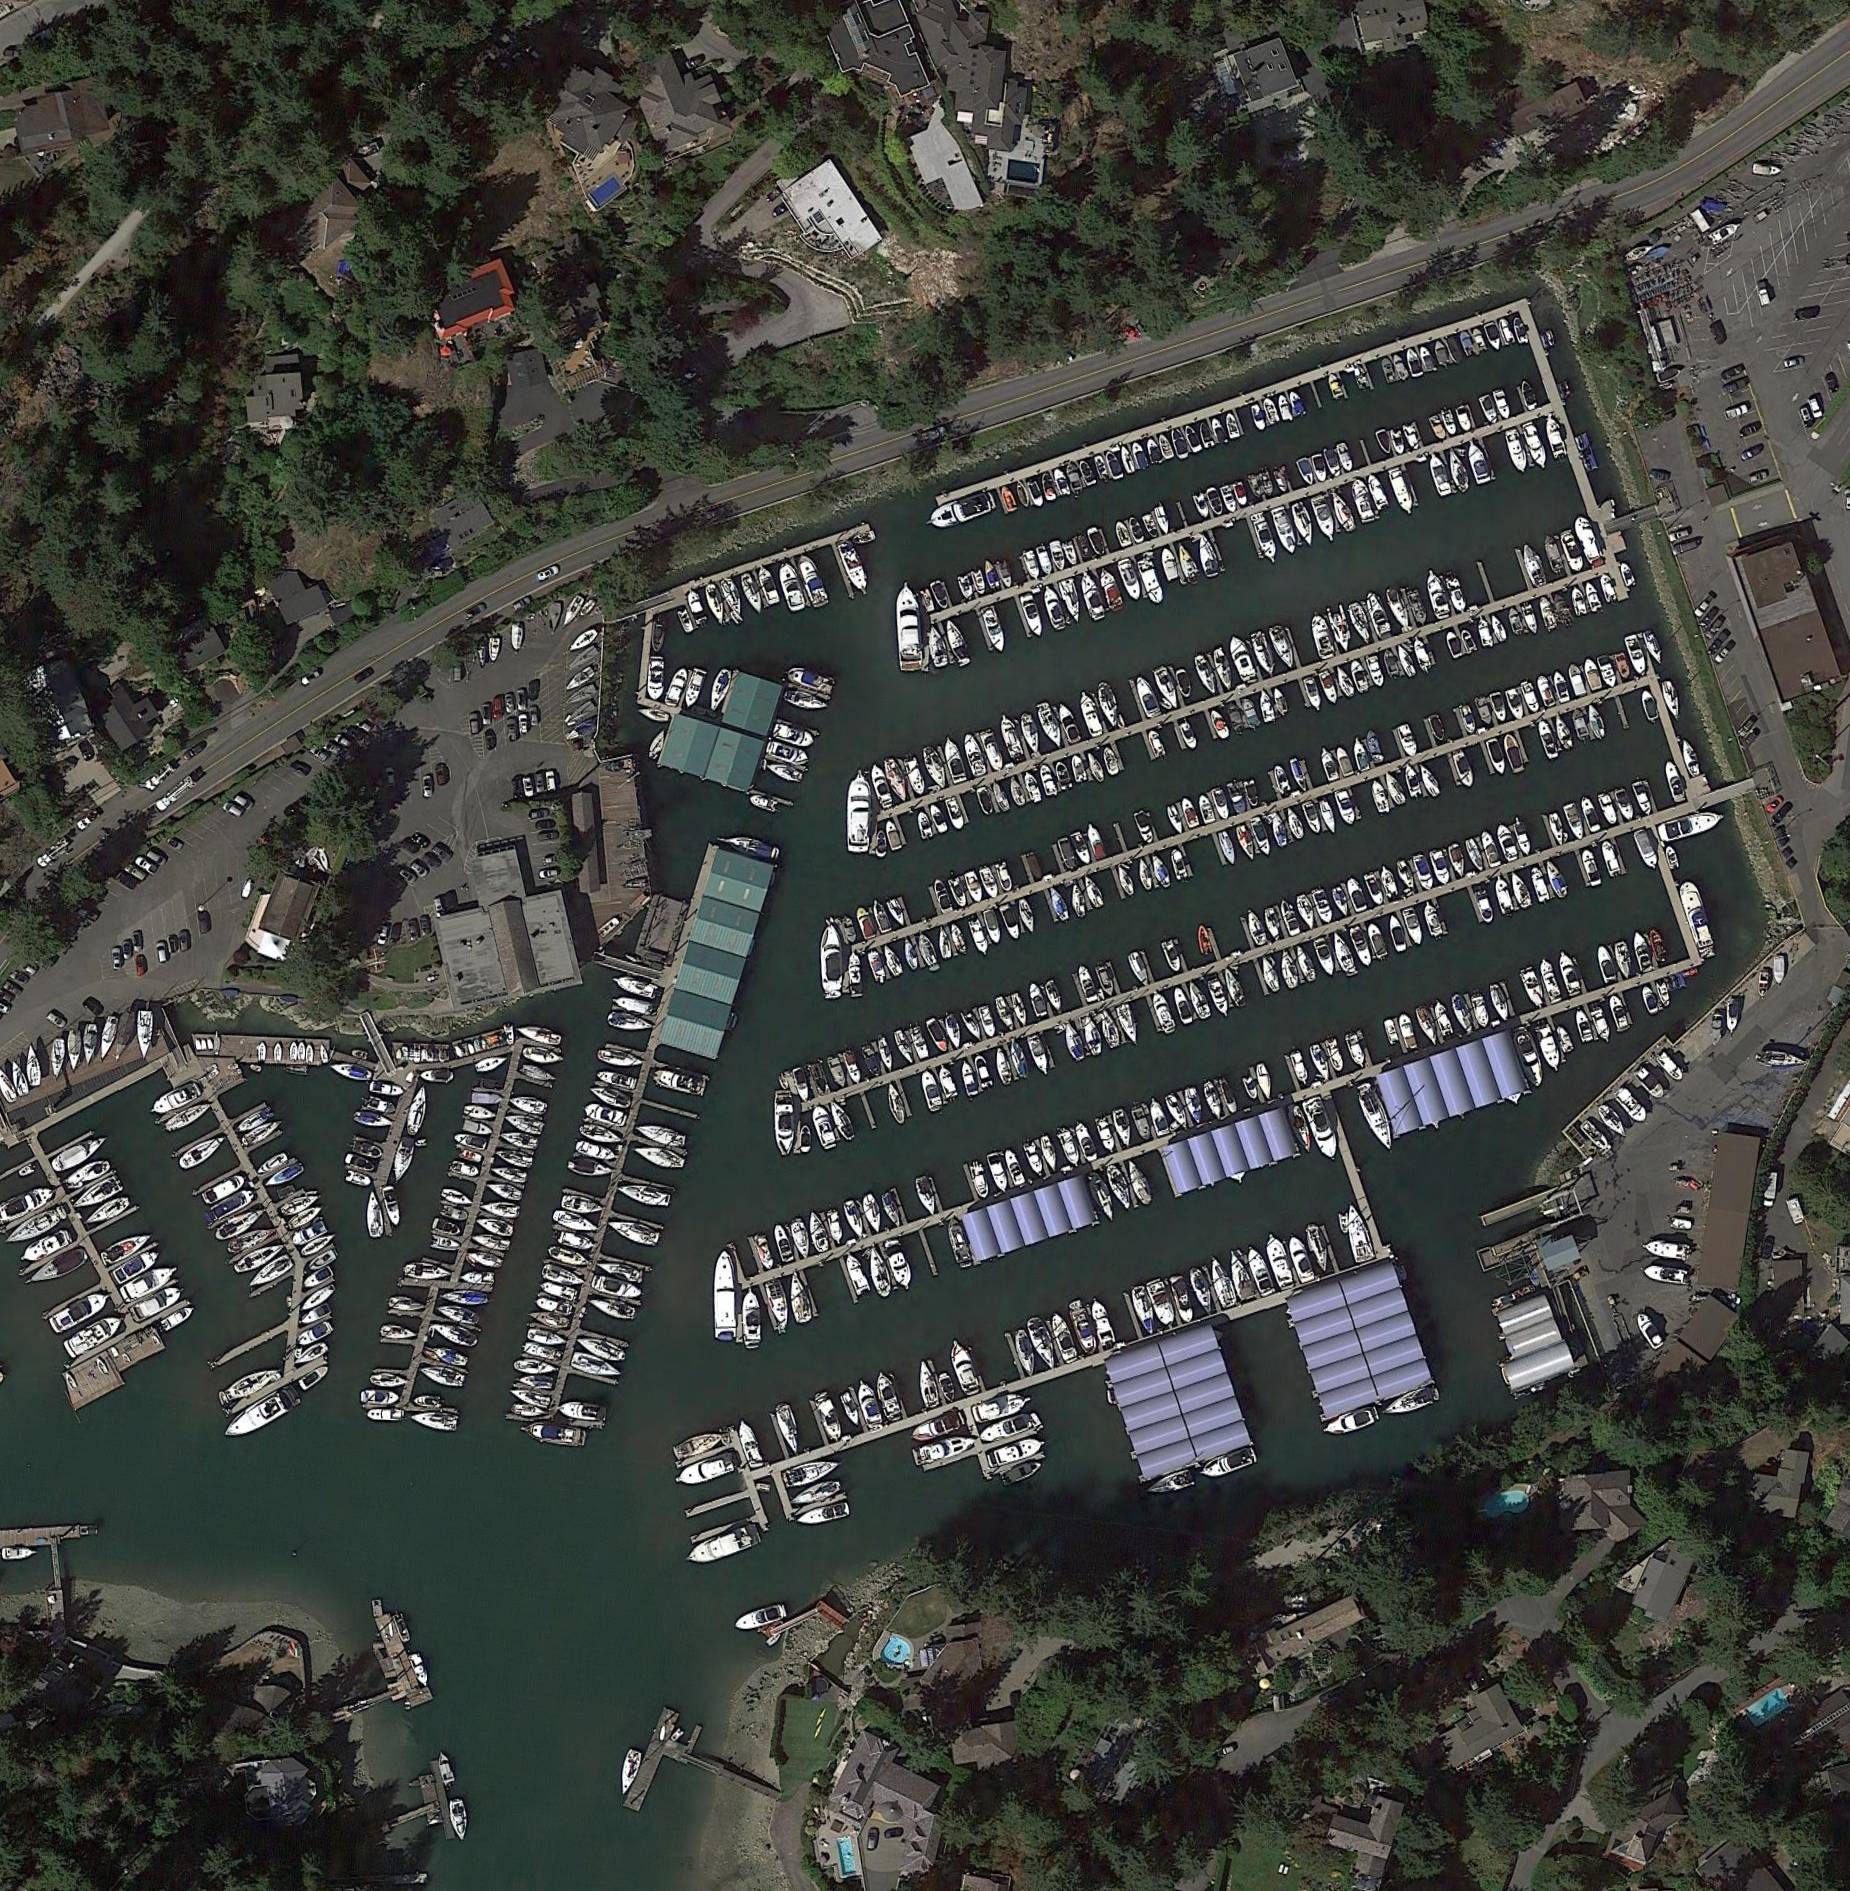harbor: (705, 922, 1711, 1347), (764, 769, 1709, 1159), (818, 647, 1660, 996), (839, 520, 1621, 859), (737, 1212, 1398, 1527), (923, 380, 1569, 664), (935, 302, 1530, 539), (85, 1049, 391, 1417), (495, 1040, 712, 1447), (363, 1059, 554, 1440), (2, 1166, 191, 1369), (673, 520, 889, 652), (623, 1706, 771, 1854), (303, 1591, 434, 1737), (329, 1078, 432, 1239), (659, 1423, 773, 1555), (2, 1527, 102, 1645), (373, 1761, 457, 1854)
large vehicle: (154, 776, 197, 813), (36, 835, 71, 869), (142, 761, 178, 793), (1762, 1171, 1779, 1206)
ship: (220, 1383, 303, 1444), (683, 1523, 762, 1571), (2, 1201, 71, 1250), (46, 1288, 114, 1337), (923, 490, 998, 534), (63, 1310, 127, 1361), (1677, 879, 1718, 959), (117, 1257, 181, 1305), (1355, 1084, 1398, 1156), (27, 1245, 91, 1291), (1301, 1095, 1342, 1164), (893, 581, 923, 671), (49, 1128, 108, 1174), (673, 1450, 739, 1491), (1657, 807, 1726, 844), (224, 1362, 285, 1405), (910, 1430, 978, 1467), (97, 1227, 158, 1267), (129, 1283, 186, 1325), (945, 1335, 983, 1400), (1338, 1201, 1376, 1266), (2, 1179, 56, 1223), (230, 1237, 286, 1279), (835, 539, 876, 596), (212, 1203, 269, 1244), (17, 1227, 75, 1267), (971, 1388, 1033, 1425), (845, 768, 872, 852), (202, 1186, 258, 1227), (1511, 1029, 1548, 1090), (1198, 1445, 1259, 1483), (108, 1247, 163, 1288), (906, 1410, 967, 1445), (1381, 1384, 1442, 1420), (1320, 1405, 1381, 1440), (795, 551, 832, 608), (147, 1079, 202, 1118), (80, 1193, 134, 1232), (781, 1454, 840, 1489), (986, 1433, 1045, 1469), (176, 1134, 232, 1171), (717, 830, 781, 862), (71, 1174, 124, 1213), (713, 1250, 735, 1342), (1262, 1235, 1298, 1291), (246, 1252, 296, 1291), (605, 1215, 662, 1249), (522, 1420, 590, 1449), (1025, 1313, 1059, 1371), (224, 1222, 278, 1257), (574, 1332, 630, 1366), (63, 1156, 114, 1193), (978, 1411, 1033, 1445), (1067, 1303, 1101, 1359), (630, 1140, 688, 1173), (569, 1350, 627, 1383), (774, 559, 808, 613), (883, 1237, 917, 1291), (1145, 1278, 1179, 1332), (1084, 1169, 1118, 1223), (200, 1173, 251, 1208), (773, 1401, 805, 1457), (788, 1478, 844, 1510), (734, 1418, 767, 1471), (671, 1428, 723, 1462), (1243, 1245, 1277, 1298), (1249, 512, 1281, 566), (1284, 1101, 1316, 1156), (942, 617, 976, 668), (1033, 701, 1067, 752), (632, 1120, 688, 1151), (732, 1603, 788, 1633), (864, 1245, 895, 1301), (854, 1378, 884, 1433), (1076, 571, 1108, 624), (944, 1217, 976, 1269), (1206, 1257, 1238, 1310), (818, 925, 844, 991), (163, 1100, 212, 1134), (1225, 634, 1259, 683), (795, 1500, 852, 1528), (1049, 1311, 1079, 1366), (1267, 624, 1299, 674), (813, 1393, 845, 1444), (1103, 1162, 1135, 1213), (617, 1179, 673, 1208), (651, 1067, 706, 1096), (239, 1117, 286, 1151), (586, 1291, 639, 1322), (784, 664, 837, 695), (1130, 1284, 1160, 1337), (879, 756, 911, 805), (1362, 590, 1394, 639), (1328, 930, 1360, 979), (1123, 1157, 1155, 1206), (1145, 1467, 1194, 1500), (403, 1084, 432, 1139), (549, 1205, 600, 1235), (613, 1747, 644, 1798), (979, 603, 1010, 654), (432, 1318, 483, 1349), (1421, 569, 1452, 620), (1271, 505, 1301, 556), (1249, 629, 1279, 679), (1186, 1266, 1216, 1317), (1286, 1234, 1316, 1284), (918, 744, 950, 791), (1152, 664, 1184, 712), (1613, 1088, 1652, 1127), (608, 971, 661, 1000), (998, 712, 1027, 764), (1169, 1273, 1198, 1325), (1303, 1222, 1332, 1274), (940, 735, 971, 785), (388, 1135, 418, 1184), (1521, 420, 1552, 469), (1572, 513, 1603, 563), (1137, 557, 1167, 607), (1096, 564, 1127, 613), (1227, 1252, 1257, 1301), (1327, 490, 1359, 535), (110, 1010, 137, 1064), (764, 1278, 793, 1328), (1384, 585, 1413, 635), (1094, 679, 1123, 730), (874, 1372, 903, 1423), (959, 730, 989, 778), (1039, 585, 1069, 632), (1191, 652, 1221, 700), (827, 1100, 859, 1144), (867, 762, 896, 812), (418, 1361, 468, 1389), (1387, 466, 1416, 515), (1535, 1023, 1564, 1073), (1076, 691, 1105, 740), (1088, 1298, 1116, 1347), (1132, 674, 1162, 720), (998, 1457, 1044, 1488), (591, 1274, 645, 1300), (1555, 947, 1582, 998), (810, 1105, 839, 1152), (771, 722, 818, 751), (1520, 542, 1548, 590), (1503, 427, 1532, 474), (740, 1288, 762, 1349), (263, 1161, 307, 1191), (842, 1252, 872, 1296), (1220, 966, 1250, 1010), (1149, 991, 1179, 1035), (788, 1273, 813, 1325), (596, 1257, 645, 1284), (1011, 1328, 1039, 1378), (915, 1361, 942, 1410), (1631, 1066, 1669, 1101), (1596, 1101, 1630, 1140), (583, 1100, 629, 1128), (588, 1083, 634, 1112), (766, 739, 811, 768), (979, 727, 1008, 773), (1347, 602, 1376, 647), (1349, 480, 1377, 525), (1347, 923, 1376, 969), (1559, 529, 1587, 574), (1116, 557, 1145, 603), (1289, 502, 1318, 547), (1310, 615, 1338, 661), (234, 1106, 274, 1139), (430, 1340, 473, 1371), (1328, 603, 1354, 654), (1162, 1091, 1193, 1134), (1184, 979, 1215, 1022), (1445, 447, 1472, 495), (662, 664, 691, 708), (739, 571, 767, 615), (278, 1191, 322, 1220), (1520, 968, 1548, 1012), (1448, 991, 1477, 1035), (774, 1090, 793, 1157), (605, 1010, 654, 1035), (515, 1022, 564, 1047), (578, 1122, 623, 1149), (540, 1261, 586, 1288), (706, 668, 734, 713), (805, 1212, 832, 1257), (901, 754, 928, 800), (1020, 591, 1047, 637), (298, 1283, 339, 1313), (298, 1228, 339, 1259), (1426, 452, 1454, 498), (1538, 961, 1565, 1006), (1631, 829, 1662, 869), (1623, 634, 1650, 679), (1055, 701, 1083, 747), (1311, 935, 1340, 978), (1448, 749, 1477, 791), (911, 1174, 940, 1217), (1211, 646, 1237, 693), (503, 1110, 547, 1137), (1006, 1039, 1033, 1083), (1465, 442, 1493, 486), (1660, 759, 1687, 803), (1176, 541, 1203, 585), (1110, 1106, 1137, 1151), (159, 1303, 198, 1334), (296, 1318, 335, 1349), (1635, 1311, 1665, 1350), (1123, 951, 1154, 990), (285, 1203, 325, 1232), (1059, 1022, 1088, 1062), (95, 1013, 119, 1062), (1642, 1237, 1691, 1261), (546, 1244, 591, 1269), (574, 1137, 620, 1162), (329, 1059, 374, 1084), (437, 1301, 483, 1327), (1059, 578, 1084, 624), (1016, 710, 1044, 752), (1653, 1051, 1687, 1084), (1543, 859, 1570, 901), (1508, 869, 1535, 912), (1677, 737, 1704, 779), (1072, 1122, 1099, 1164), (1415, 1005, 1442, 1047), (1083, 820, 1110, 862), (595, 1045, 642, 1069), (608, 993, 656, 1017), (412, 1408, 459, 1432), (1364, 473, 1393, 512), (683, 668, 708, 712), (884, 1081, 910, 1125), (1543, 415, 1569, 459), (1311, 495, 1337, 539), (1116, 1001, 1142, 1045), (1501, 734, 1528, 774), (1574, 432, 1601, 473), (1057, 1128, 1084, 1169), (1277, 898, 1304, 939), (1579, 1118, 1611, 1152), (925, 624, 949, 669), (298, 1362, 334, 1393), (1630, 929, 1653, 974), (566, 1156, 615, 1178), (762, 759, 805, 785), (756, 564, 781, 607), (842, 1200, 867, 1242), (1027, 1032, 1052, 1074), (920, 1069, 945, 1112), (510, 1384, 552, 1410), (474, 1213, 517, 1239), (1406, 586, 1432, 629), (1201, 1079, 1227, 1122), (562, 717, 600, 746), (291, 1220, 329, 1249), (889, 1027, 917, 1066), (878, 1191, 905, 1230), (1367, 778, 1394, 817), (1598, 839, 1625, 878), (1079, 873, 1106, 912), (522, 1044, 566, 1067), (705, 581, 728, 625), (789, 1217, 813, 1261), (783, 690, 830, 712), (527, 1306, 571, 1330), (447, 1798, 471, 1842), (1093, 1113, 1116, 1157), (495, 1145, 535, 1171), (500, 1127, 540, 1152), (557, 1401, 608, 1422), (752, 1232, 778, 1273), (562, 664, 596, 695), (7, 1059, 32, 1100), (485, 1178, 525, 1203), (1445, 574, 1471, 615), (1494, 823, 1520, 864), (1577, 795, 1603, 835), (1594, 944, 1620, 984), (1001, 1147, 1027, 1188), (1308, 1042, 1333, 1083), (1277, 949, 1303, 990), (1074, 964, 1099, 1005), (1081, 1017, 1106, 1057), (562, 700, 598, 729), (562, 681, 598, 710), (557, 595, 586, 630), (1315, 746, 1342, 783), (1416, 762, 1443, 800), (1381, 771, 1408, 808), (1206, 976, 1233, 1013), (861, 1189, 883, 1235), (1643, 1262, 1689, 1284), (1198, 534, 1220, 579), (561, 1193, 603, 1217), (508, 1093, 551, 1117), (517, 1061, 559, 1084), (523, 1339, 566, 1362), (381, 1186, 405, 1228), (1537, 718, 1560, 761), (1659, 679, 1682, 722), (1147, 1096, 1171, 1139), (1171, 984, 1194, 1027), (771, 1223, 796, 1262), (720, 578, 745, 617), (966, 917, 991, 956), (930, 878, 955, 917), (1411, 852, 1437, 891), (1333, 788, 1359, 827), (1562, 801, 1587, 840), (1589, 1006, 1615, 1045), (1132, 808, 1157, 847), (1149, 852, 1174, 891), (1096, 1012, 1122, 1051), (1249, 817, 1274, 856), (566, 644, 600, 673), (988, 1151, 1010, 1195), (490, 1162, 530, 1186), (539, 1278, 579, 1301), (254, 1151, 290, 1178), (527, 1325, 568, 1349), (295, 1340, 330, 1367), (364, 1191, 385, 1239), (1403, 907, 1426, 947), (1394, 722, 1421, 757), (1493, 876, 1516, 917), (1183, 1086, 1206, 1127), (1259, 954, 1282, 995), (998, 903, 1023, 940), (925, 1017, 950, 1054), (1394, 642, 1420, 679), (1347, 657, 1372, 695), (1343, 878, 1369, 915), (1157, 546, 1183, 583), (1069, 830, 1094, 868), (1233, 823, 1259, 861), (1243, 908, 1269, 945), (596, 1067, 639, 1090), (993, 1045, 1015, 1088), (1386, 912, 1408, 954), (568, 627, 600, 656), (556, 1228, 595, 1252), (993, 995, 1016, 1034), (1542, 534, 1565, 573), (1428, 847, 1452, 886), (1311, 886, 1335, 925), (1479, 830, 1503, 869), (1486, 737, 1509, 776), (1487, 983, 1511, 1022), (1608, 995, 1631, 1034), (1631, 779, 1655, 818), (1023, 1140, 1047, 1179), (1216, 1076, 1240, 1115), (1343, 1030, 1367, 1069), (1294, 891, 1318, 930), (1293, 944, 1316, 983), (1708, 219, 1742, 246), (440, 1288, 490, 1306), (684, 590, 710, 625), (915, 932, 940, 968), (961, 1008, 986, 1044), (852, 905, 878, 940), (298, 1301, 334, 1327), (1332, 664, 1357, 700), (1047, 886, 1072, 922), (1225, 779, 1250, 815), (1254, 1062, 1276, 1103), (957, 1061, 981, 1098), (403, 1261, 451, 1279), (1365, 923, 1389, 961), (1613, 786, 1637, 823), (1579, 849, 1603, 886), (1642, 629, 1665, 666), (1596, 652, 1620, 690), (1432, 1000, 1455, 1037), (1288, 757, 1311, 795), (1215, 829, 1238, 866), (879, 944, 905, 978), (137, 1010, 154, 1061), (352, 1108, 395, 1128), (307, 1247, 341, 1273), (302, 1266, 335, 1291), (1757, 1051, 1808, 1067), (473, 1230, 512, 1252), (466, 1247, 505, 1269), (535, 1295, 574, 1317), (1421, 900, 1443, 939), (971, 1161, 993, 1200), (1132, 1105, 1154, 1144), (861, 1044, 884, 1079), (978, 864, 1001, 900), (935, 1064, 959, 1100), (1552, 715, 1576, 751), (1364, 873, 1387, 908), (1316, 800, 1340, 835), (1301, 800, 1325, 835), (1528, 868, 1552, 903), (408, 1650, 432, 1686), (1469, 993, 1493, 1029), (1260, 907, 1284, 942), (1160, 937, 1184, 973), (1282, 805, 1306, 840), (1615, 940, 1635, 981), (647, 725, 669, 762), (647, 657, 666, 701), (827, 1054, 849, 1091), (1016, 896, 1039, 934), (983, 908, 1005, 945), (871, 898, 893, 935), (24, 1044, 42, 1088), (1464, 837, 1486, 874), (1447, 842, 1469, 879), (1377, 864, 1399, 901), (1511, 820, 1533, 857), (1364, 727, 1386, 764), (1350, 735, 1372, 773), (1598, 790, 1620, 827), (1586, 703, 1608, 740), (1057, 835, 1079, 873), (1094, 962, 1116, 1000), (945, 876, 971, 908), (1206, 708, 1232, 740), (944, 796, 967, 830), (1535, 674, 1559, 708), (1537, 596, 1560, 630), (1333, 746, 1357, 779), (1647, 929, 1670, 962), (1084, 751, 1108, 785), (839, 1393, 862, 1427), (791, 1066, 811, 1105), (1039, 1134, 1059, 1173), (842, 1049, 864, 1084), (962, 869, 984, 905), (949, 922, 971, 957), (910, 1025, 932, 1061), (1027, 983, 1049, 1018), (972, 1054, 994, 1090), (1006, 774, 1028, 810), (883, 817, 905, 852), (474, 1052, 510, 1074), (454, 1130, 490, 1152), (1365, 654, 1387, 690), (1520, 679, 1542, 715), (1504, 686, 1526, 722), (1330, 884, 1352, 920), (435, 1750, 457, 1786), (1582, 656, 1604, 691), (1325, 1037, 1347, 1073), (1211, 786, 1233, 822), (884, 896, 908, 929), (989, 779, 1013, 812), (1238, 696, 1262, 729), (1179, 798, 1203, 830), (1010, 991, 1030, 1029), (1398, 1013, 1418, 1051), (1135, 856, 1155, 893), (637, 703, 671, 725), (849, 952, 866, 996), (1022, 769, 1044, 803), (81, 1023, 98, 1067), (351, 1139, 385, 1161), (515, 1357, 559, 1374), (1474, 890, 1496, 923), (1582, 579, 1604, 613), (1565, 663, 1587, 696), (1638, 688, 1660, 722), (937, 1371, 959, 1405), (1169, 429, 1191, 463), (1115, 862, 1137, 896), (1271, 762, 1293, 796), (1044, 978, 1066, 1012), (483, 1200, 522, 1218), (978, 1005, 998, 1040), (1477, 395, 1501, 425), (1574, 1008, 1594, 1044), (1177, 722, 1201, 752), (1269, 813, 1289, 849), (391, 1611, 413, 1644), (747, 791, 779, 813), (993, 861, 1015, 893), (866, 951, 888, 983), (928, 579, 950, 612), (927, 803, 949, 835), (1321, 447, 1343, 480), (1552, 591, 1574, 624), (1403, 766, 1425, 798), (1482, 320, 1504, 352), (1638, 984, 1660, 1017), (1145, 729, 1167, 761), (1052, 759, 1074, 791), (1223, 701, 1245, 734), (1183, 424, 1205, 456), (1289, 1051, 1311, 1083), (1316, 669, 1338, 701), (878, 1035, 896, 1073), (1022, 547, 1042, 581), (981, 557, 1001, 591), (449, 1159, 483, 1179), (440, 1188, 474, 1208), (344, 1152, 378, 1173), (1411, 637, 1432, 671), (1335, 441, 1355, 474), (1493, 386, 1513, 420), (68, 1029, 83, 1073), (1487, 613, 1509, 644), (1394, 859, 1416, 890), (1377, 356, 1399, 386), (1205, 486, 1227, 517), (1103, 451, 1125, 481), (1023, 851, 1045, 881), (935, 925, 954, 961), (827, 1210, 845, 1245), (1069, 883, 1088, 918), (945, 1013, 962, 1052), (517, 1372, 556, 1389), (379, 1323, 418, 1340), (1039, 764, 1059, 796), (1552, 671, 1572, 703), (1489, 691, 1509, 724), (1521, 603, 1542, 635), (1459, 703, 1479, 735), (1404, 347, 1425, 380), (1623, 242, 1655, 263), (1570, 708, 1591, 740), (1152, 503, 1172, 535), (1099, 746, 1120, 778), (1174, 668, 1194, 700), (1086, 525, 1106, 557), (1130, 441, 1150, 473), (1169, 847, 1189, 879), (1166, 803, 1186, 835), (1304, 676, 1325, 708), (1194, 922, 1215, 954), (51, 1037, 66, 1079), (1443, 629, 1465, 657), (1554, 1025, 1576, 1054), (1426, 713, 1448, 742), (1294, 457, 1316, 486), (901, 939, 920, 973), (363, 1096, 396, 1115), (1049, 539, 1067, 573), (1066, 463, 1084, 496), (1259, 690, 1277, 724), (996, 559, 1016, 590), (1039, 471, 1059, 502), (976, 786, 996, 817), (439, 1203, 469, 1223), (432, 1217, 462, 1237), (1474, 696, 1494, 727), (1445, 334, 1465, 364), (1440, 407, 1460, 437), (1598, 573, 1618, 603), (1127, 517, 1147, 547), (1210, 415, 1230, 446), (1198, 795, 1218, 825), (651, 617, 667, 652), (596, 915, 622, 939), (390, 1295, 425, 1311), (512, 1401, 547, 1418), (1548, 812, 1565, 847), (462, 1118, 495, 1137), (430, 1234, 462, 1252), (1403, 420, 1421, 452), (1520, 380, 1538, 412), (1069, 752, 1088, 785), (369, 1372, 408, 1388), (361, 1389, 400, 1405), (1000, 485, 1020, 513), (1027, 480, 1047, 508), (915, 812, 935, 840), (1496, 317, 1516, 346), (1416, 344, 1437, 373), (1428, 413, 1448, 442), (1140, 512, 1160, 541), (1113, 520, 1133, 549), (1155, 432, 1176, 461), (1077, 459, 1098, 488), (364, 1408, 407, 1422), (1035, 544, 1054, 574), (2, 1545, 39, 1561), (1389, 425, 1408, 456), (1570, 586, 1589, 617), (1615, 651, 1633, 681), (1198, 420, 1216, 451), (1118, 444, 1137, 474), (1272, 686, 1291, 717), (1459, 629, 1479, 656), (1374, 429, 1394, 456), (1260, 398, 1281, 425), (1709, 1012, 1725, 1047), (957, 573, 976, 602), (344, 1169, 373, 1188), (1382, 649, 1401, 678), (1511, 317, 1530, 346), (1432, 339, 1450, 368), (1391, 352, 1410, 381), (1455, 405, 1474, 434), (1220, 485, 1238, 513), (1193, 491, 1211, 520), (1249, 403, 1267, 432), (1144, 437, 1162, 466), (1054, 468, 1072, 496), (462, 1105, 496, 1120), (369, 1081, 403, 1096), (1259, 468, 1276, 498), (1459, 330, 1477, 358), (1288, 390, 1306, 417), (547, 602, 562, 634), (971, 568, 988, 596), (1015, 480, 1032, 508), (840, 917, 857, 945), (1477, 618, 1494, 647), (1655, 979, 1672, 1008), (1311, 452, 1328, 481), (1062, 539, 1079, 568), (1243, 779, 1260, 808), (420, 1069, 456, 1083), (461, 1271, 496, 1284), (852, 529, 878, 547), (1662, 846, 1681, 871), (1245, 473, 1264, 498), (918, 586, 935, 613), (1508, 607, 1525, 634), (1354, 364, 1371, 391), (1725, 1000, 1738, 1034), (1276, 395, 1293, 422), (1093, 454, 1110, 481), (1242, 1074, 1259, 1101), (1382, 1018, 1399, 1045), (1618, 563, 1637, 586), (1225, 412, 1240, 441), (471, 1091, 503, 1105), (678, 608, 695, 634), (1471, 327, 1487, 352), (1272, 468, 1289, 493), (1233, 481, 1250, 507), (1327, 374, 1343, 400), (457, 1149, 485, 1164), (1752, 163, 1782, 176), (93, 1356, 112, 1378), (302, 844, 320, 866), (874, 830, 888, 859), (578, 598, 596, 618), (308, 856, 329, 874), (1757, 969, 1770, 996), (800, 1123, 811, 1154), (285, 1062, 310, 1076), (512, 622, 523, 651), (241, 878, 256, 900), (1774, 956, 1786, 983), (17, 1162, 36, 1179), (276, 1184, 296, 1200), (488, 639, 500, 664), (669, 1727, 686, 1744), (64, 1372, 80, 1391), (623, 878, 647, 890), (503, 1023, 515, 1045), (318, 1044, 330, 1066), (1338, 1212, 1350, 1234), (766, 1632, 783, 1647), (728, 608, 744, 625), (1028, 1411, 1044, 1428), (778, 1073, 791, 1091), (351, 1047, 369, 1061), (318, 851, 330, 871), (1159, 696, 1174, 712), (217, 1389, 230, 1406), (823, 990, 842, 1000), (258, 1042, 268, 1061), (249, 1062, 264, 1074), (756, 1483, 773, 1493), (108, 1345, 120, 1359), (120, 1352, 132, 1366), (151, 1334, 163, 1347), (305, 1044, 313, 1062), (298, 1042, 307, 1061), (290, 1042, 298, 1061), (274, 1044, 283, 1062), (415, 1139, 429, 1149), (207, 1039, 215, 1051), (195, 1039, 202, 1051), (202, 1039, 207, 1051)
small vehicle: (915, 424, 949, 447), (110, 868, 141, 891), (1721, 376, 1752, 396), (76, 808, 102, 832), (1770, 801, 1794, 825), (1708, 630, 1730, 656), (134, 854, 161, 874), (1670, 539, 1699, 557), (1721, 403, 1750, 422), (124, 861, 147, 883), (1713, 640, 1735, 664), (1694, 595, 1716, 618), (535, 563, 561, 583), (462, 602, 488, 622), (81, 996, 107, 1017), (1698, 607, 1720, 629), (290, 757, 313, 778), (183, 742, 207, 762), (46, 1010, 69, 1030), (146, 847, 169, 868), (308, 742, 332, 762), (19, 957, 41, 978), (430, 844, 452, 864), (1704, 617, 1725, 639), (1736, 717, 1757, 739), (222, 800, 246, 818), (232, 793, 256, 812), (1709, 320, 1728, 344), (1794, 307, 1821, 322), (2, 979, 24, 998), (334, 732, 356, 751), (400, 837, 422, 856), (408, 861, 430, 879), (78, 905, 102, 922), (1740, 446, 1764, 463), (1808, 396, 1825, 420), (1720, 364, 1743, 381), (1757, 281, 1772, 307), (76, 740, 95, 761), (354, 666, 374, 685), (422, 852, 442, 871), (1740, 730, 1759, 751), (396, 868, 418, 884), (164, 835, 185, 852), (8, 969, 30, 984), (1799, 407, 1814, 429), (1825, 373, 1840, 395), (198, 912, 212, 935), (408, 918, 422, 942), (390, 922, 403, 945), (1782, 356, 1806, 369), (302, 669, 320, 686), (412, 832, 430, 849), (1765, 795, 1782, 813), (512, 596, 532, 612), (1748, 469, 1769, 485), (1738, 424, 1759, 439), (537, 829, 559, 842), (435, 764, 449, 786), (1669, 529, 1691, 542), (356, 717, 373, 734), (432, 898, 447, 917), (324, 740, 342, 756), (523, 774, 535, 798), (512, 774, 523, 798), (158, 940, 169, 964), (507, 718, 518, 742), (535, 818, 556, 832), (376, 925, 390, 945), (546, 769, 557, 791), (534, 773, 546, 795), (529, 679, 540, 701), (180, 930, 191, 952), (1648, 469, 1670, 481), (883, 1827, 905, 1838), (867, 1828, 879, 1850), (529, 808, 549, 820), (168, 935, 180, 956), (385, 768, 396, 788), (424, 774, 434, 798), (518, 713, 529, 735), (112, 947, 122, 969), (505, 691, 515, 713), (539, 868, 557, 879), (517, 690, 527, 710), (137, 956, 147, 976), (132, 932, 142, 952), (452, 661, 462, 681), (486, 730, 496, 751), (530, 707, 540, 725), (422, 917, 432, 935), (495, 698, 503, 720), (483, 703, 491, 725), (471, 712, 479, 734), (124, 940, 132, 961)
swimming pool: (1743, 1689, 1791, 1728), (1481, 1489, 1532, 1522), (835, 1837, 857, 1879), (881, 1639, 911, 1666)
